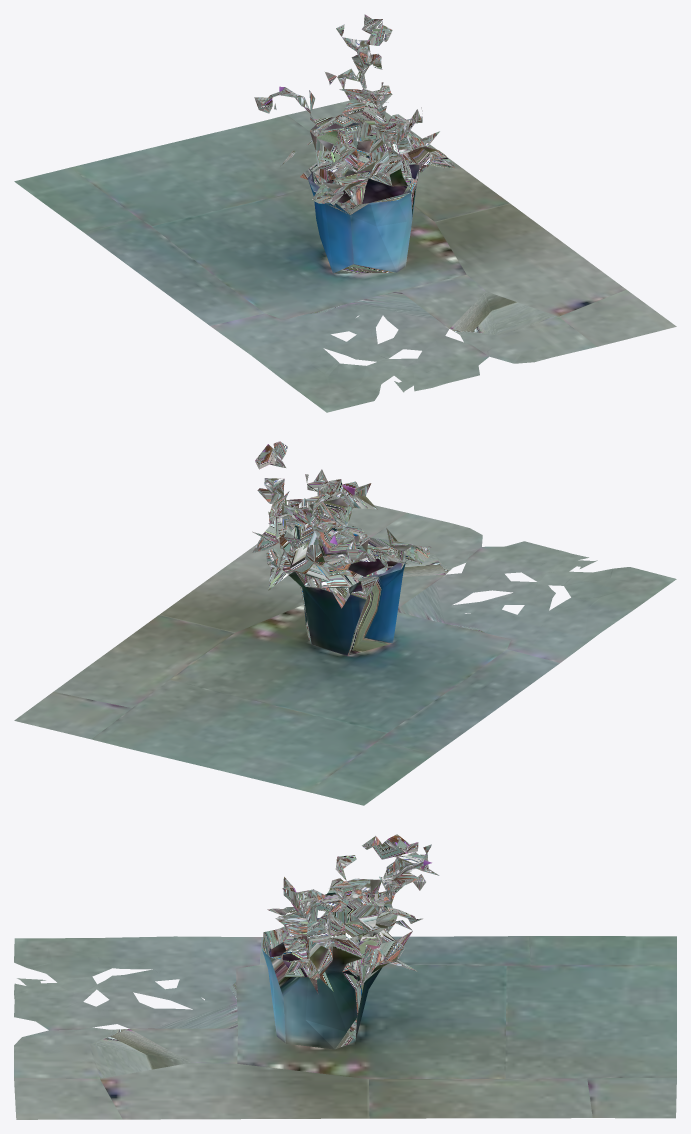
File: hoa-giay-chau.glb
The picture shows the model from 3 angles, top to bottom: view 1: azimuth 30°, elevation 25°; view 2: azimuth 150°, elevation 25°; view 3: azimuth 270°, elevation 25°; orthographic projection. The views are drawn at different scales.
Visible parts, largest first — view 1: Object_2; view 2: Object_2; view 3: Object_2.
Part boxes in pixels (x1,y1,x2,y2): Object_2: (14, 14, 676, 412); Object_2: (14, 441, 676, 805); Object_2: (14, 834, 676, 1119).
Bounding box in the file's own units: 0.6467 × 0.3667 × 1.
1 material, 1 textured.
